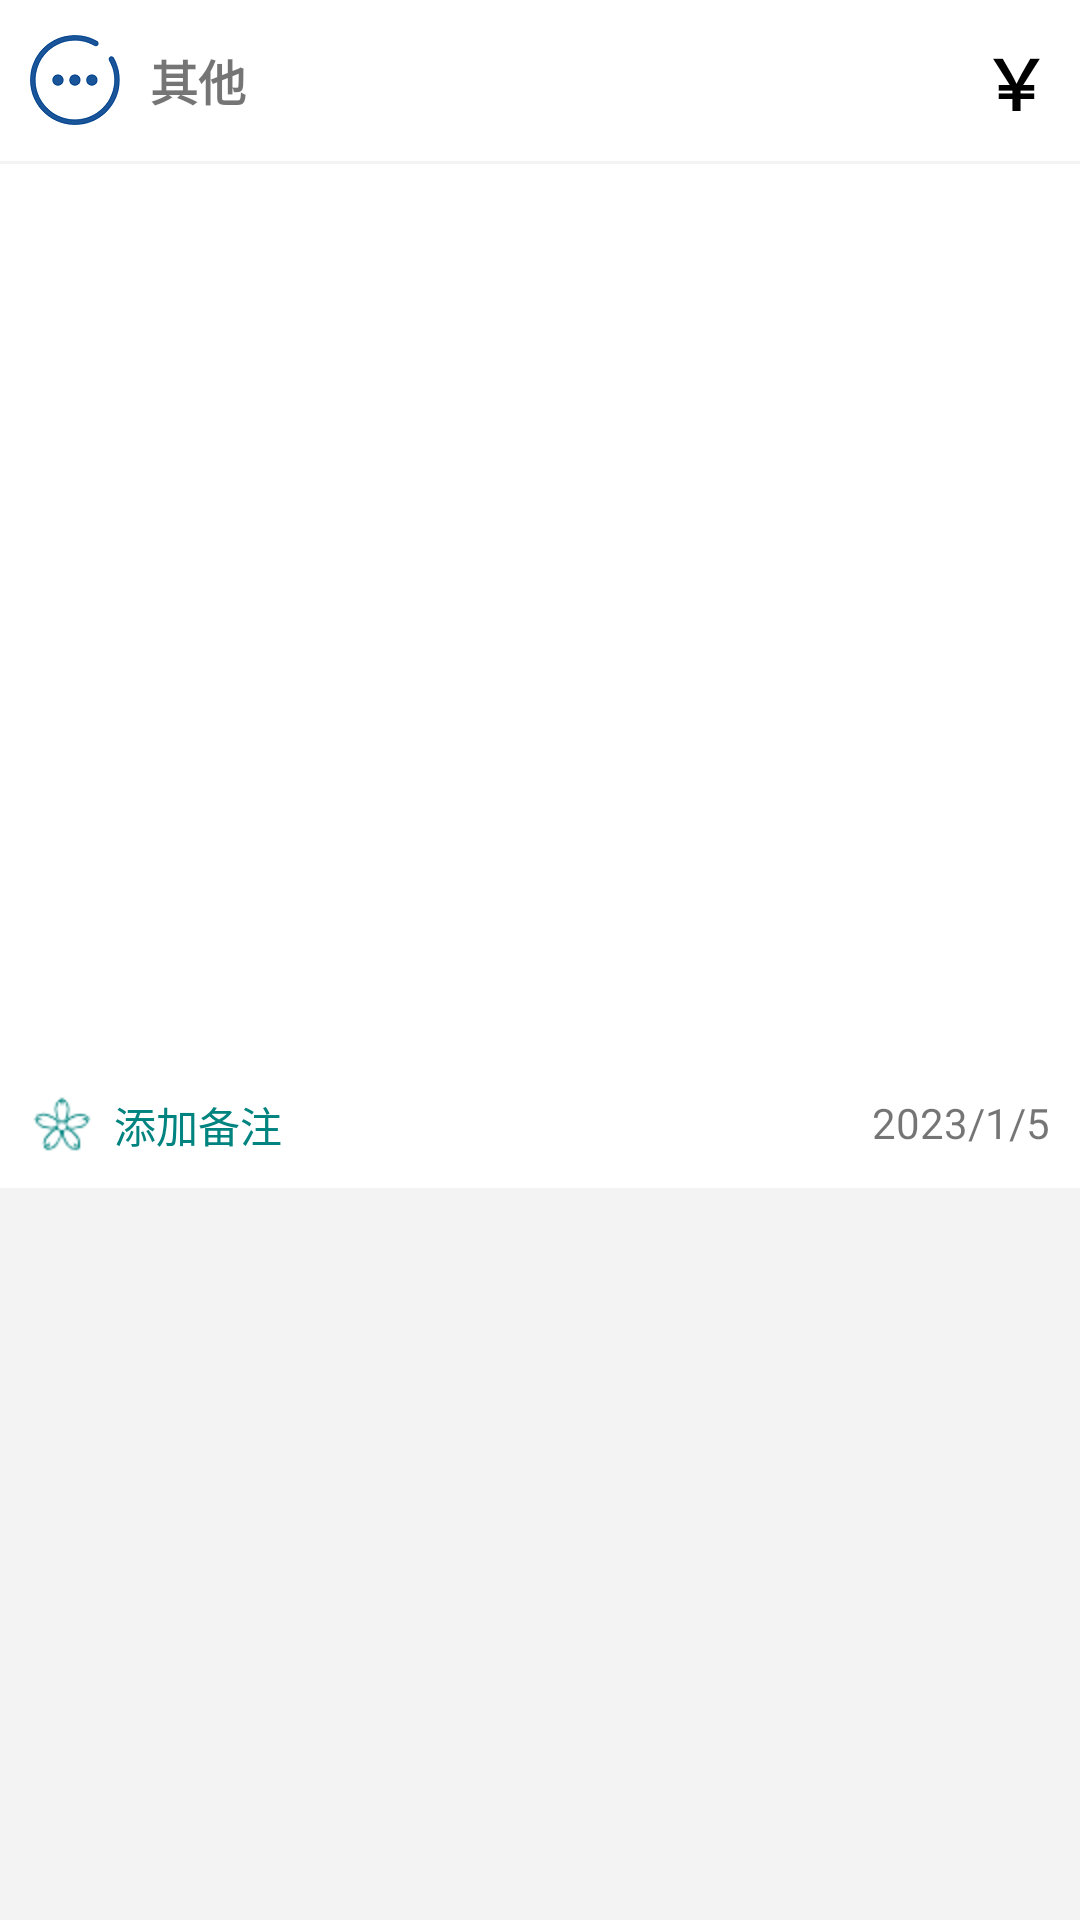

Named icons in this screenshot (1080px x 1920px) and their bounding boxes, (x1, y1, x2, y2):
more: (30, 35, 120, 125)
